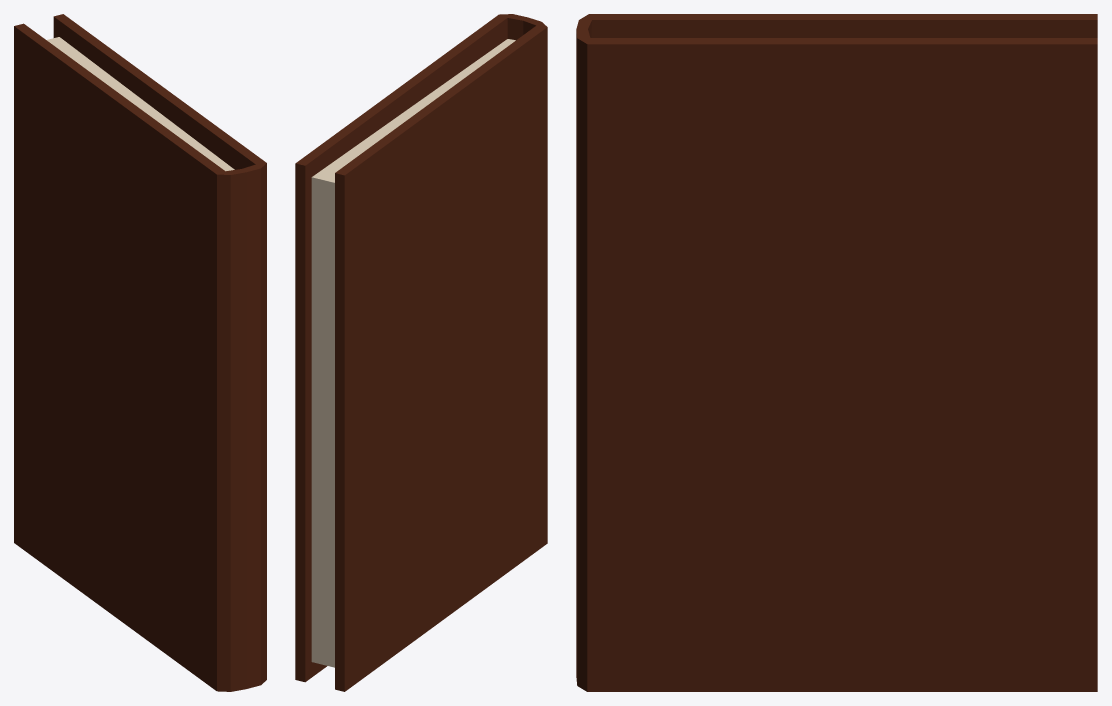
Rendered from Book_0.fbx.
3 renders of one model, left to right at view 1: azimuth 30°, elevation 25°; view 2: azimuth 150°, elevation 25°; view 3: azimuth 270°, elevation 25°, orthographic. The views are drawn at different scales.
Visible parts, largest first — view 1: Book_0; view 2: Book_0; view 3: Book_0.
Boxes of the visible parts, <box> form: Book_0: <box>14,14,266,691</box>; Book_0: <box>295,14,547,691</box>; Book_0: <box>576,14,1097,691</box>.
Bounding box in the file's own units: 0.2 × 2 × 1.46.
